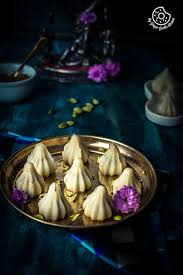modak: (36, 179, 84, 221), (82, 186, 122, 225), (98, 137, 129, 179), (63, 159, 96, 195), (26, 140, 59, 175), (21, 162, 50, 198), (63, 131, 96, 157)
